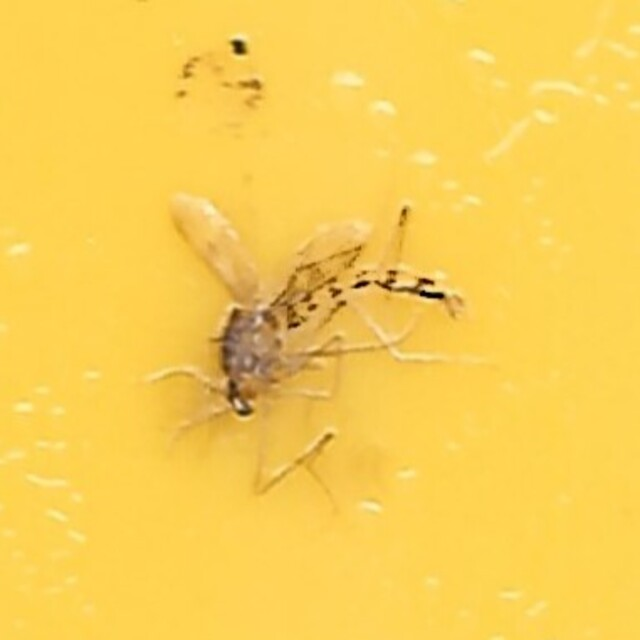Nematocera: (168, 198, 472, 442)
